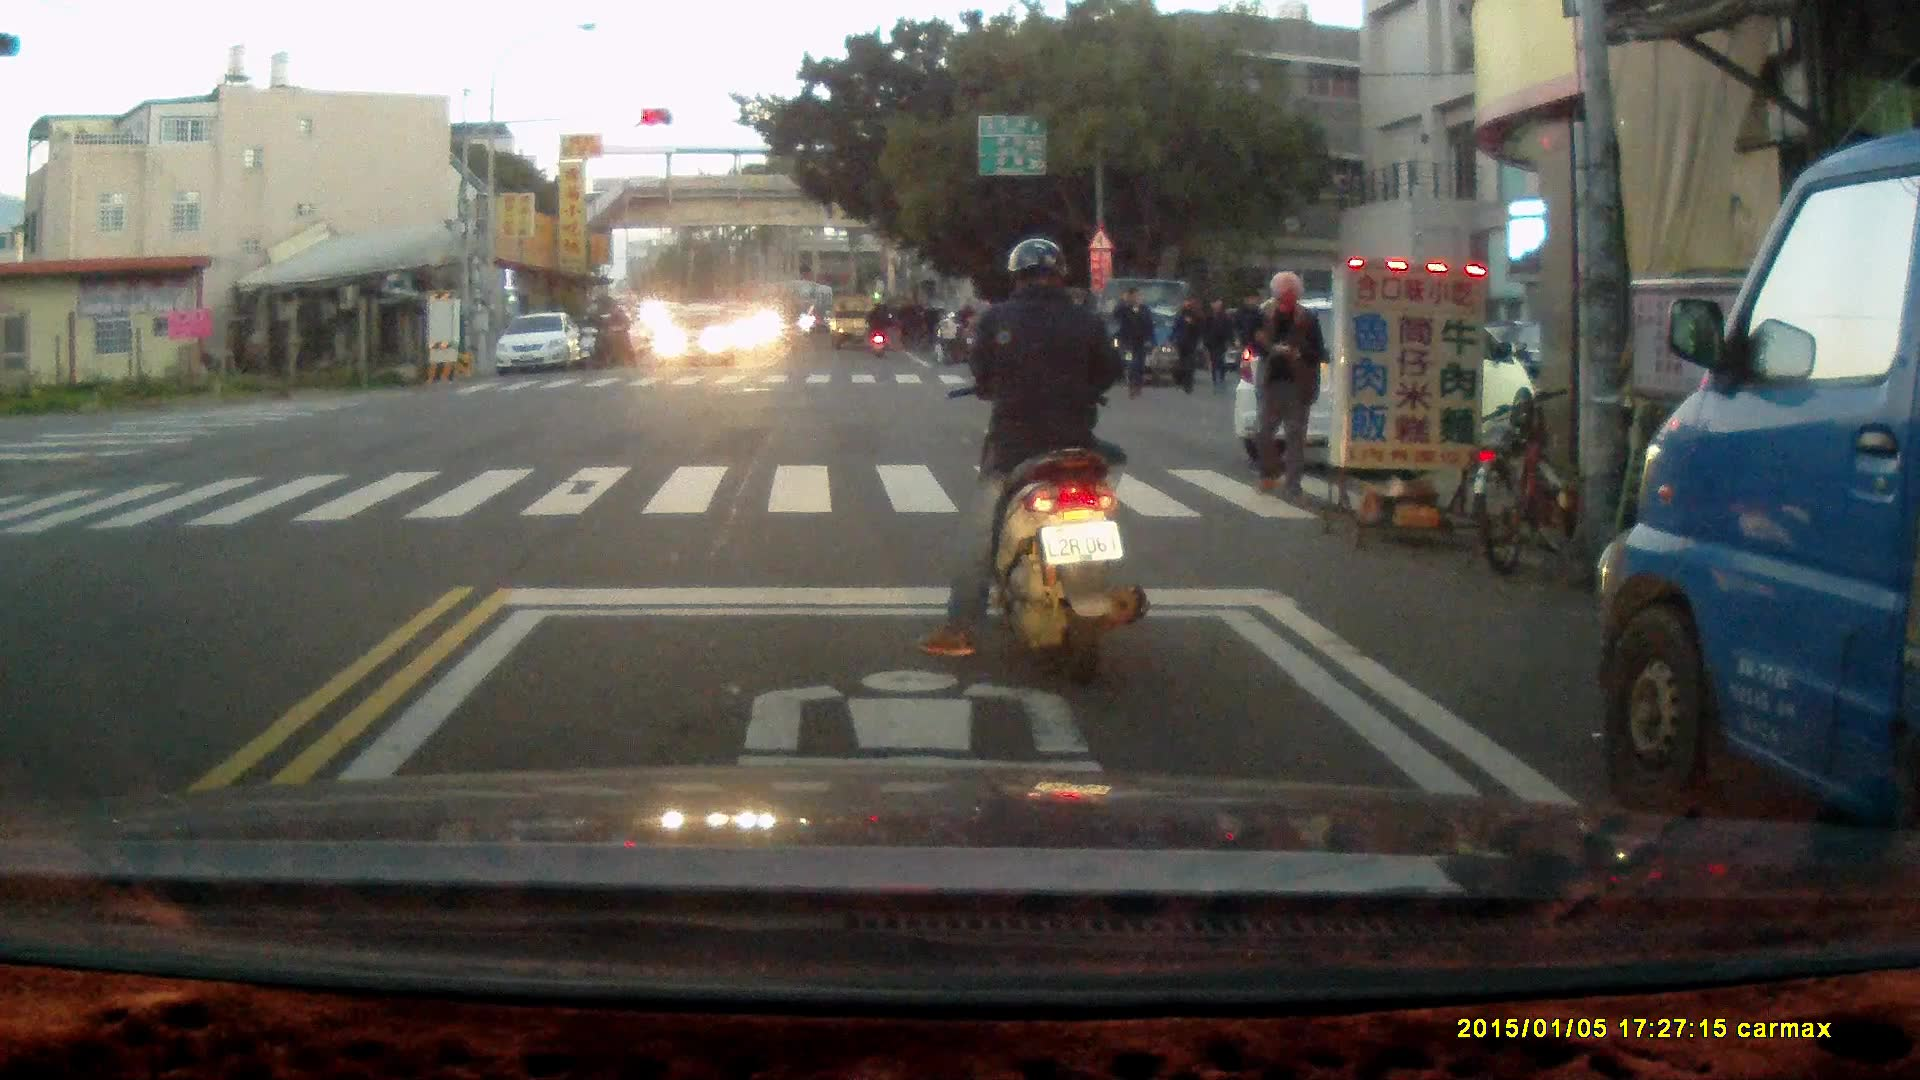pedestrian: (1235, 265, 1319, 505), (1111, 280, 1157, 401), (1166, 292, 1202, 394), (1199, 291, 1234, 391), (1231, 284, 1267, 382)
rider: (918, 231, 1149, 687), (598, 299, 633, 371), (577, 301, 612, 372), (859, 294, 890, 358), (948, 298, 979, 360)
vehicle: (1596, 120, 1920, 901), (1236, 303, 1533, 462), (650, 300, 743, 369), (493, 311, 584, 378), (824, 295, 875, 342)
